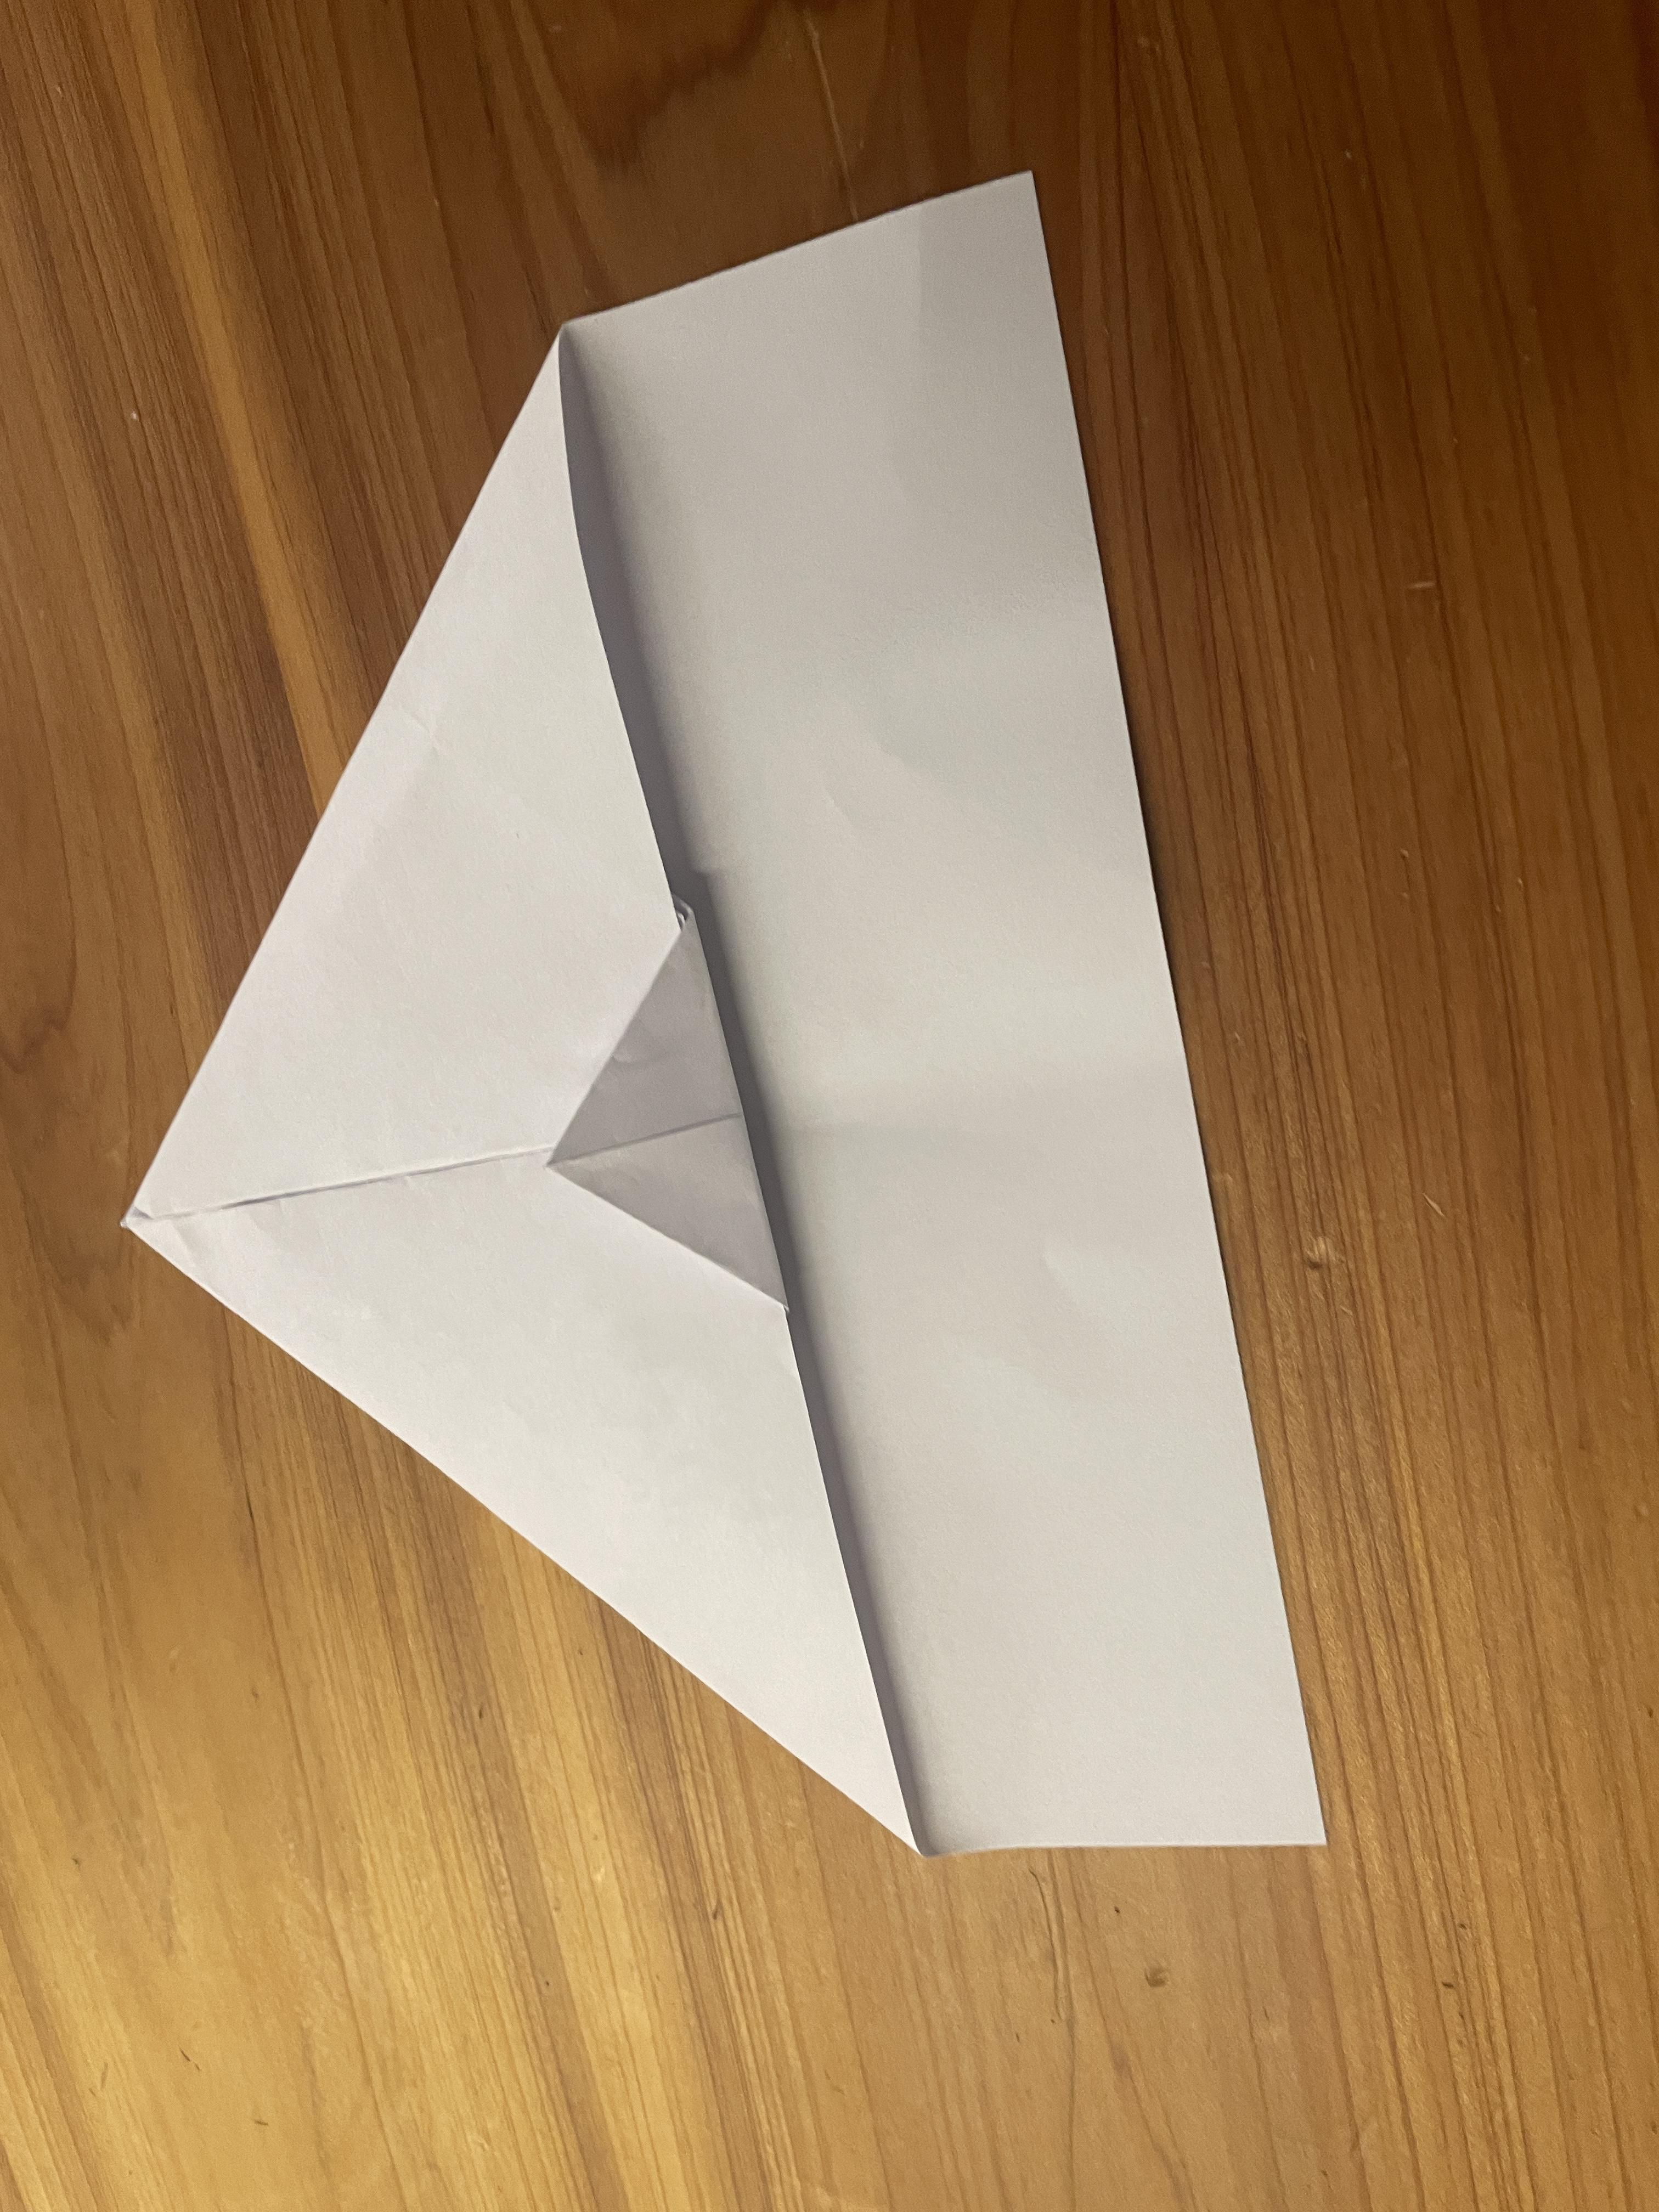shape_2: (61, 127, 1535, 1973)
